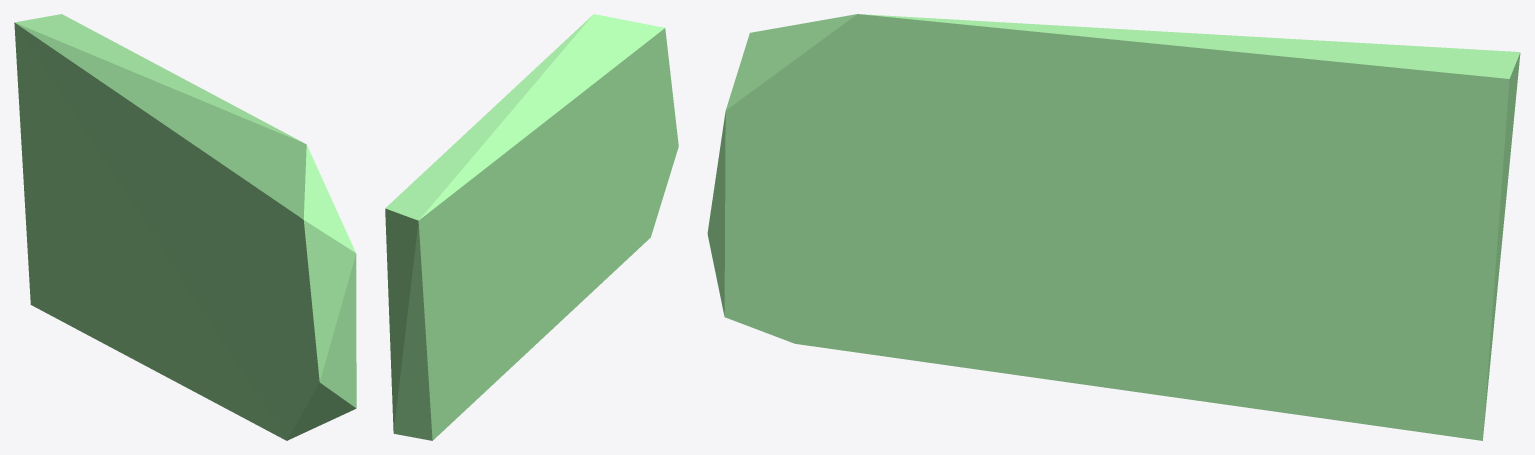
File: dvkr_robot_L3_respondable_ECM_coll_2.dae
3 views of the same model, side by side, from view 1: azimuth 30°, elevation 25°; view 2: azimuth 150°, elevation 25°; view 3: azimuth 270°, elevation 25° (orthographic). The views are drawn at different scales.
Visible parts, largest first — view 1: Node_0000023514CD8970; view 2: Node_0000023514CD8970; view 3: Node_0000023514CD8970.
Boxes of the visible parts, x1,y1,x2,y2 form: Node_0000023514CD8970: (14, 14, 356, 440); Node_0000023514CD8970: (385, 14, 678, 440); Node_0000023514CD8970: (707, 14, 1520, 440).
Bounding box in the file's own units: 0.00502 × 0.0353 × 0.061.
